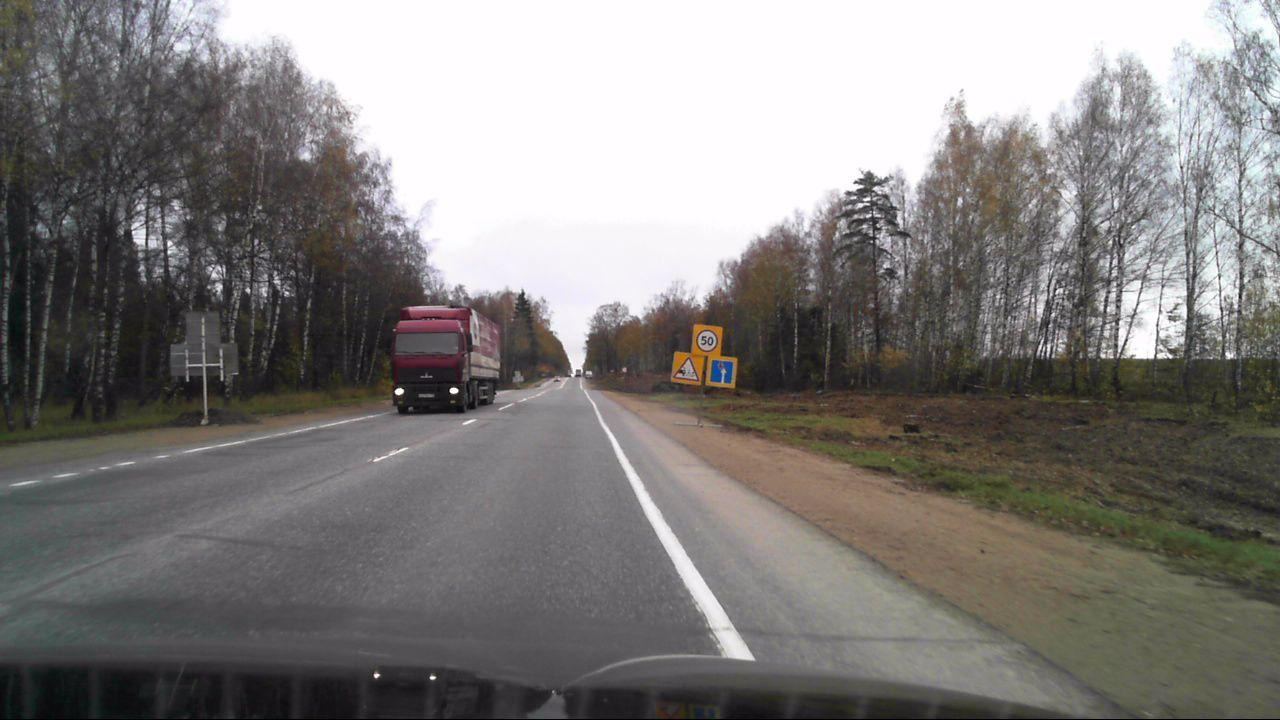1_18: (674, 354, 700, 382)
2_7: (709, 359, 734, 385)
3_24: (695, 329, 719, 352)
